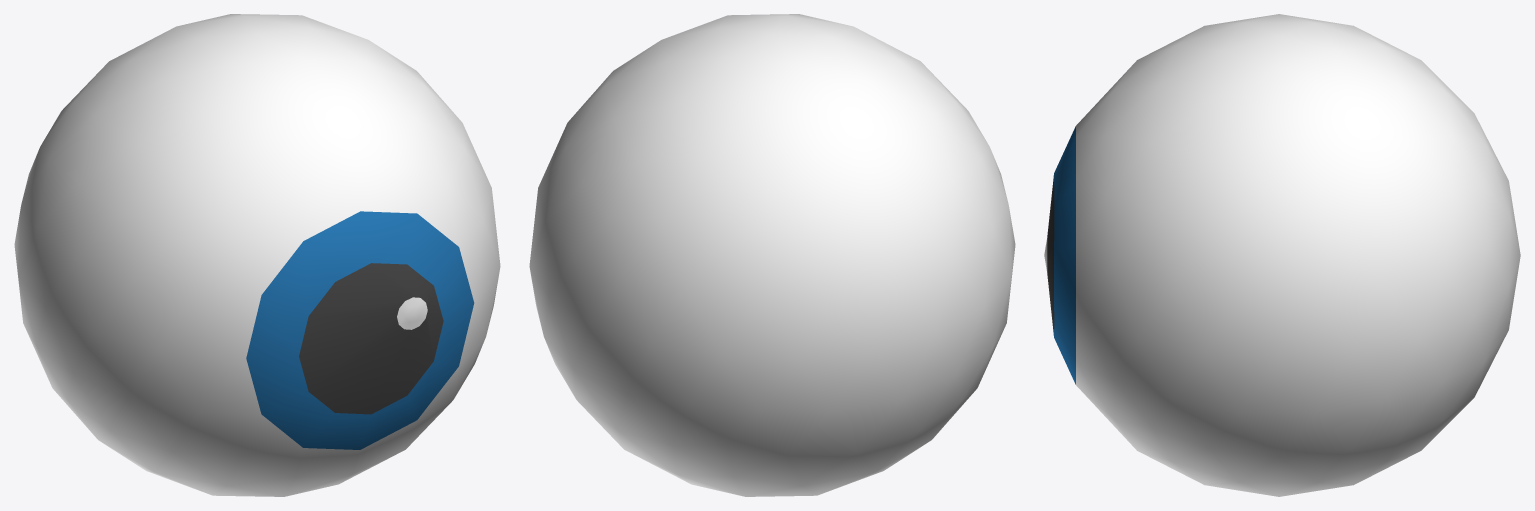
Rendered from Eye_1.fbx.
3 renders of one model, left to right at view 1: azimuth 30°, elevation 25°; view 2: azimuth 150°, elevation 25°; view 3: azimuth 270°, elevation 25°, orthographic.
Parts seen in each view (by area): view 1: Eye_1; view 2: Eye_1; view 3: Eye_1.
Boxes of the visible parts, bbox=[...] form: Eye_1: bbox=[14, 14, 500, 496]; Eye_1: bbox=[529, 14, 1015, 496]; Eye_1: bbox=[1044, 14, 1520, 496].
Size of the model in its own units: 0.1952 by 0.1952 by 0.1925.
